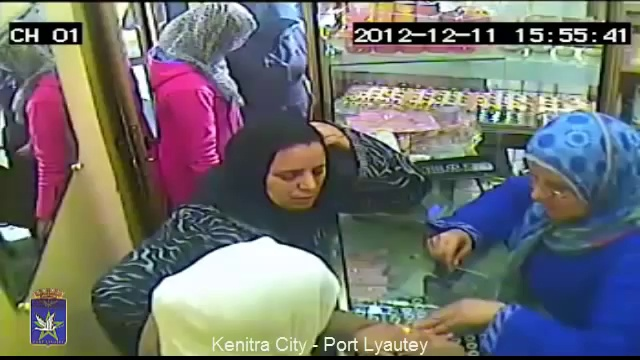face: (268, 153, 327, 207), (535, 160, 590, 214)
